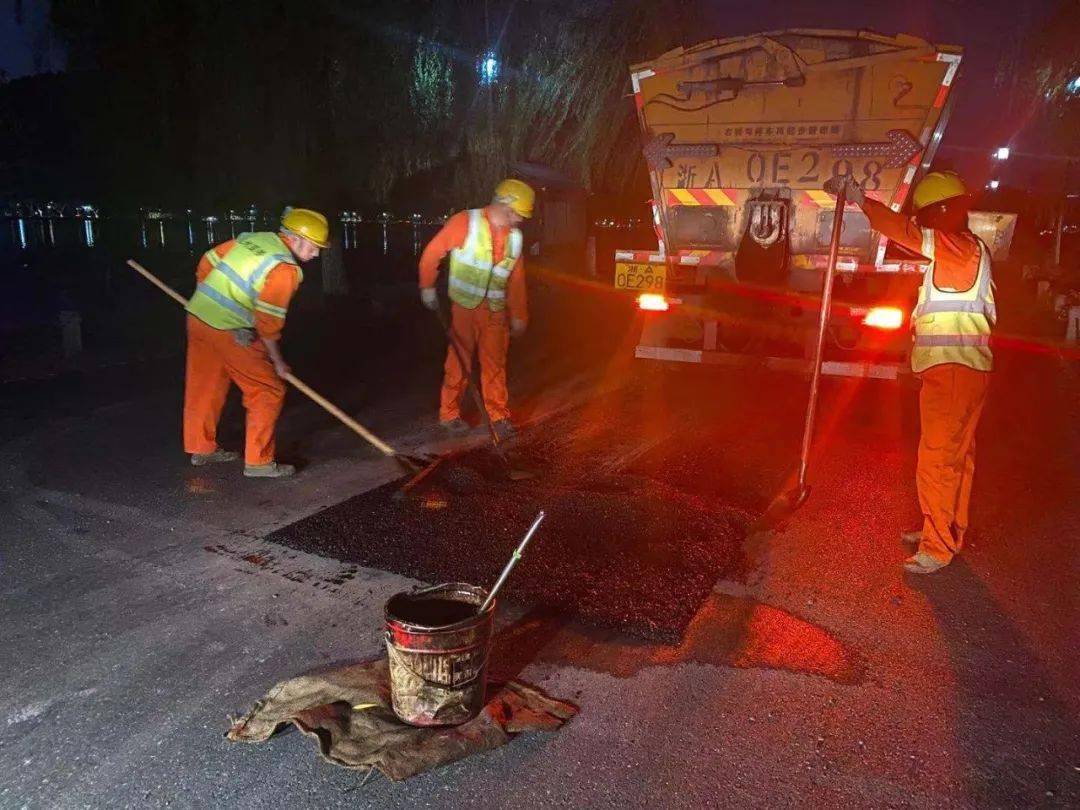person: (819, 168, 999, 578), (180, 205, 332, 480), (417, 179, 537, 439)
reflective_vest: (906, 226, 999, 378), (181, 230, 304, 333), (445, 206, 524, 314)
safety_helmet: (910, 169, 973, 230), (279, 202, 332, 263), (484, 178, 536, 228)
